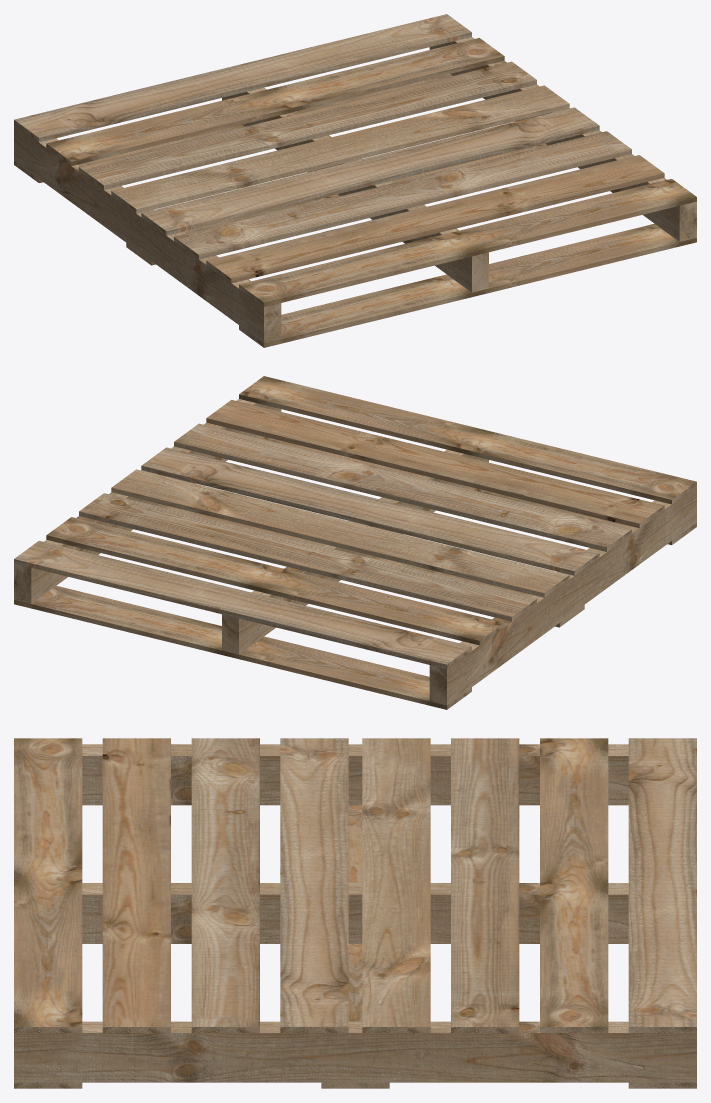
The model's file is SM_WoodPallet1.fbx.
The picture shows the model from 3 angles, top to bottom: view 1: azimuth 30°, elevation 25°; view 2: azimuth 150°, elevation 25°; view 3: azimuth 270°, elevation 25°; orthographic projection. The views are drawn at different scales.
Visible parts, largest first — view 1: pCube18; view 2: pCube18; view 3: pCube18.
Boxes of the visible parts, x1,y1,x2,y2 form: pCube18: (14,14,696,347); pCube18: (14,376,696,709); pCube18: (14,738,696,1088).
Bounding box in the file's own units: 100 × 10 × 100.
